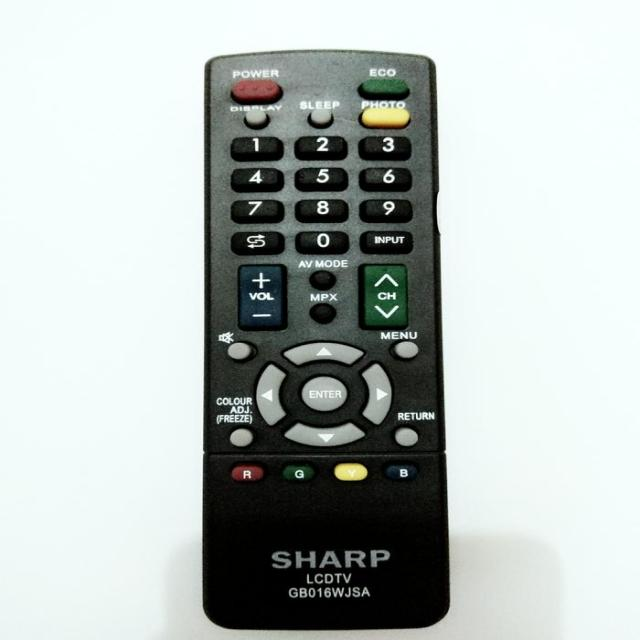remote: (206, 45, 448, 628)
